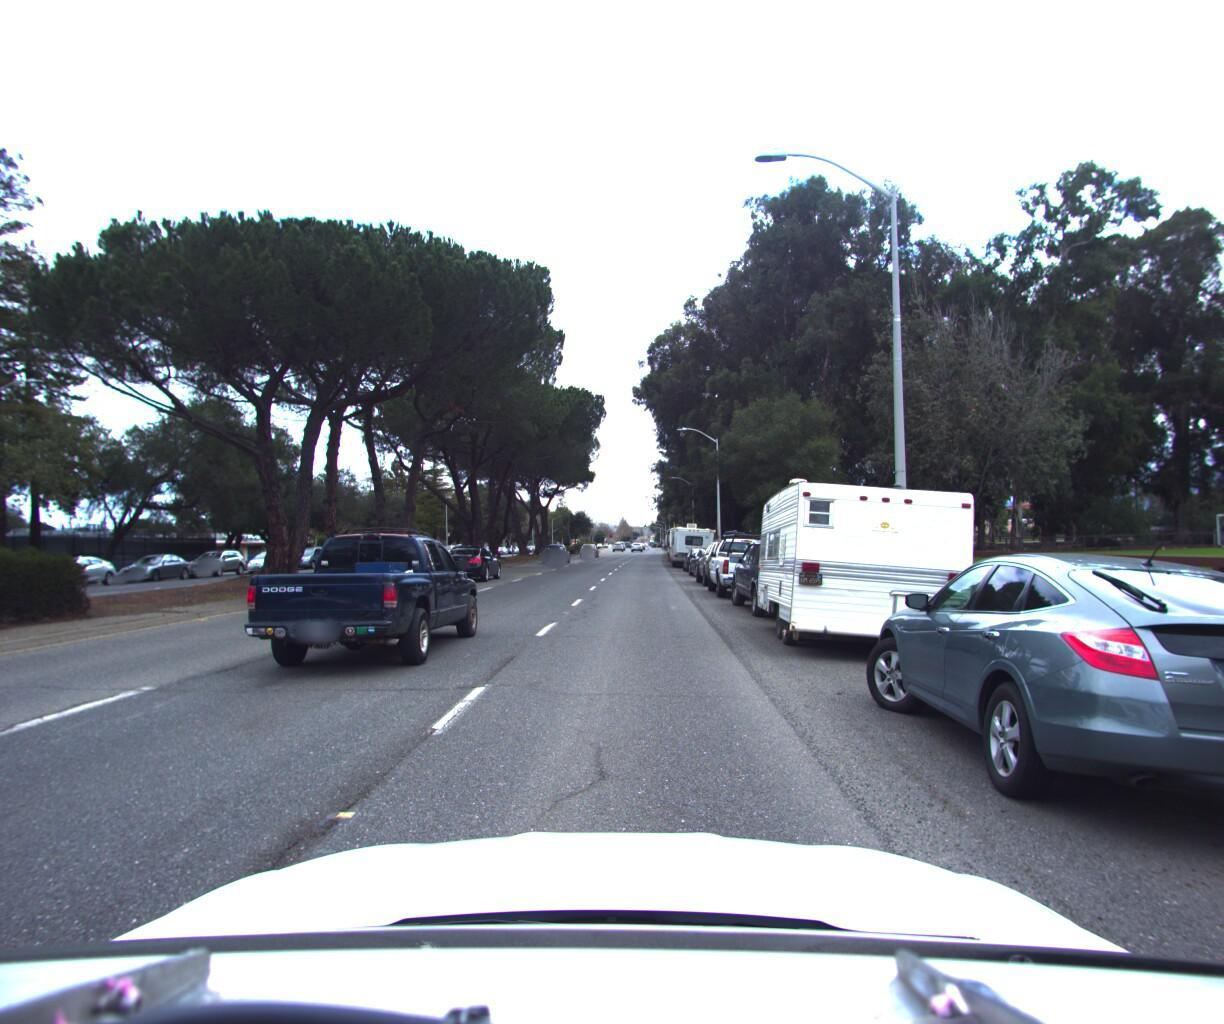car: (847, 535, 1224, 887), (237, 515, 493, 681), (724, 529, 855, 617), (699, 522, 793, 595), (689, 522, 760, 583), (18, 551, 120, 590), (111, 553, 196, 583), (440, 542, 505, 581), (182, 548, 249, 578), (683, 541, 730, 573), (242, 545, 295, 571), (285, 543, 333, 568), (676, 543, 716, 569), (540, 539, 570, 560), (578, 537, 598, 551)
other_vehicle: (748, 456, 990, 662), (664, 516, 720, 564)
